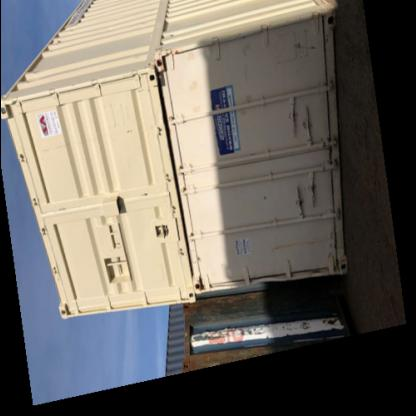Damage: (283, 156, 335, 270), (272, 37, 326, 134)
